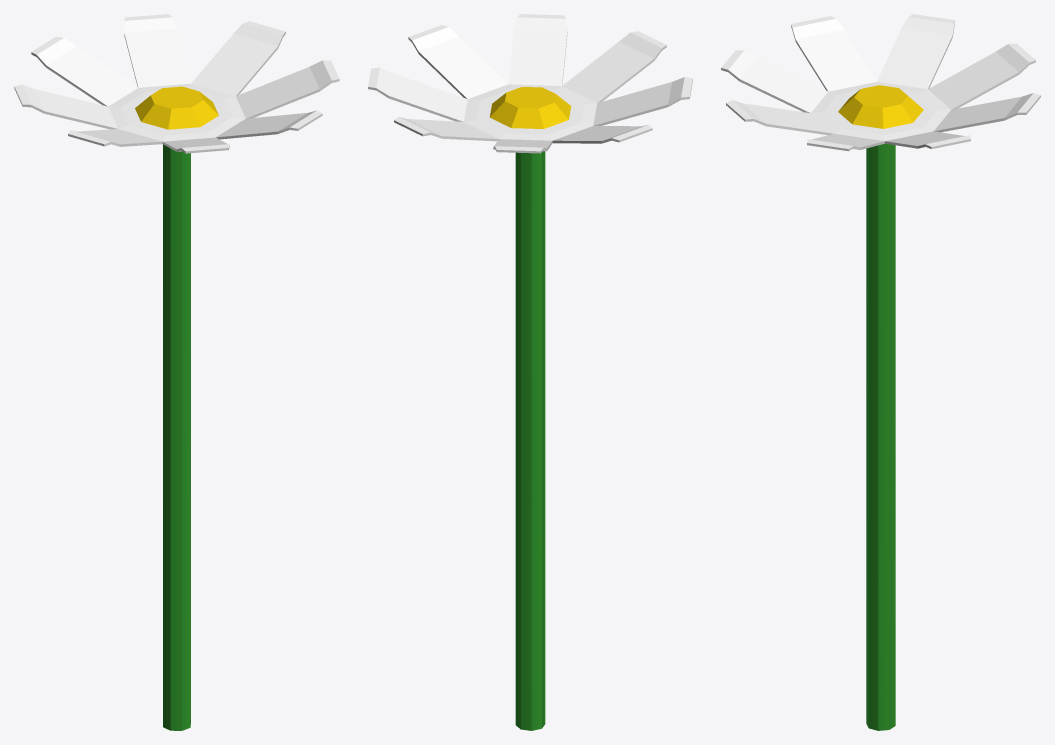
Rendered from Flowers_Daisy01.fbx.
The picture shows the model from 3 angles, left to right: view 1: azimuth 30°, elevation 25°; view 2: azimuth 150°, elevation 25°; view 3: azimuth 270°, elevation 25°; orthographic projection.
Visible parts, largest first — view 1: Cylinder.049; view 2: Cylinder.049; view 3: Cylinder.049.
Boxes of the visible parts, <box> form: Cylinder.049: <box>14,14,339,730</box>; Cylinder.049: <box>368,14,692,730</box>; Cylinder.049: <box>721,14,1040,730</box>.
Bounding box in the file's own units: 12.16 × 27 × 12.16.
